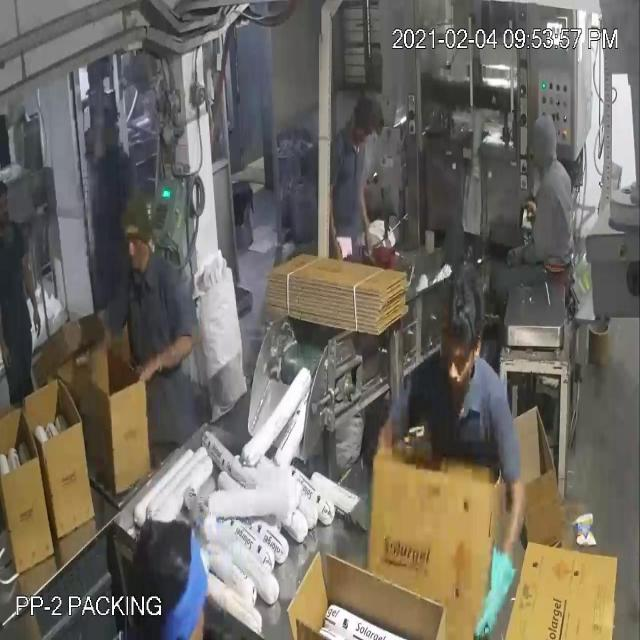No_Gloves: (25, 57, 500, 586)
